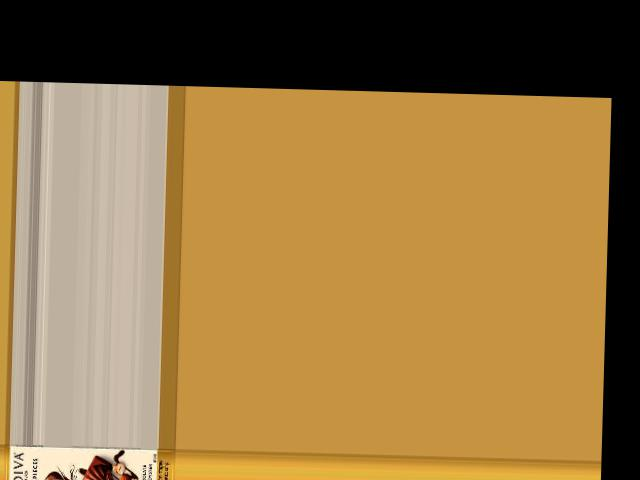chocolate: (3, 444, 174, 480)
